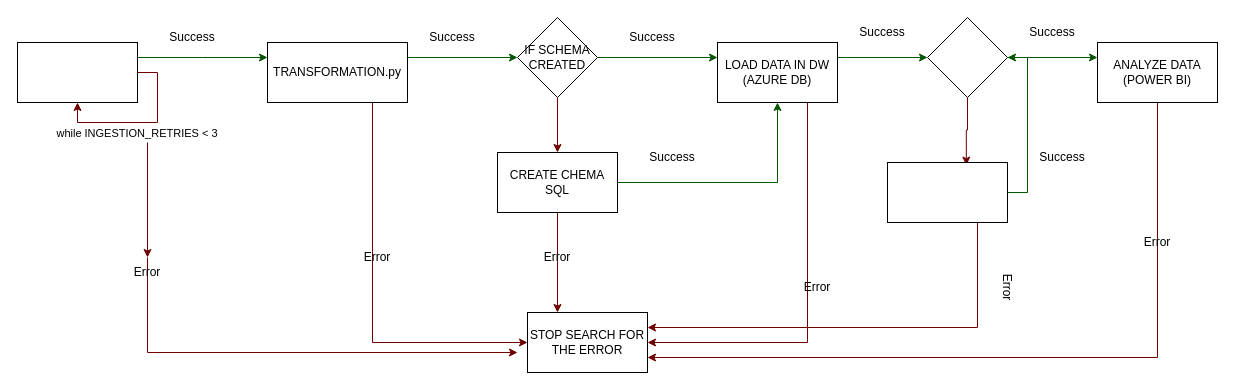
Some shapes in this 1235 by 390 pixel diagram are drawn without their labels. Here are the shapes that lost their labels. From the top down, the centre of each, then its label:
At [77,72]: "INGESTION (from GIT).py".
At [967,57]: "IF NOT CONNECTION ERROR".
At [947,192]: "CONNECTION ERROR FOLLOW STEPS TO CONNECT".
